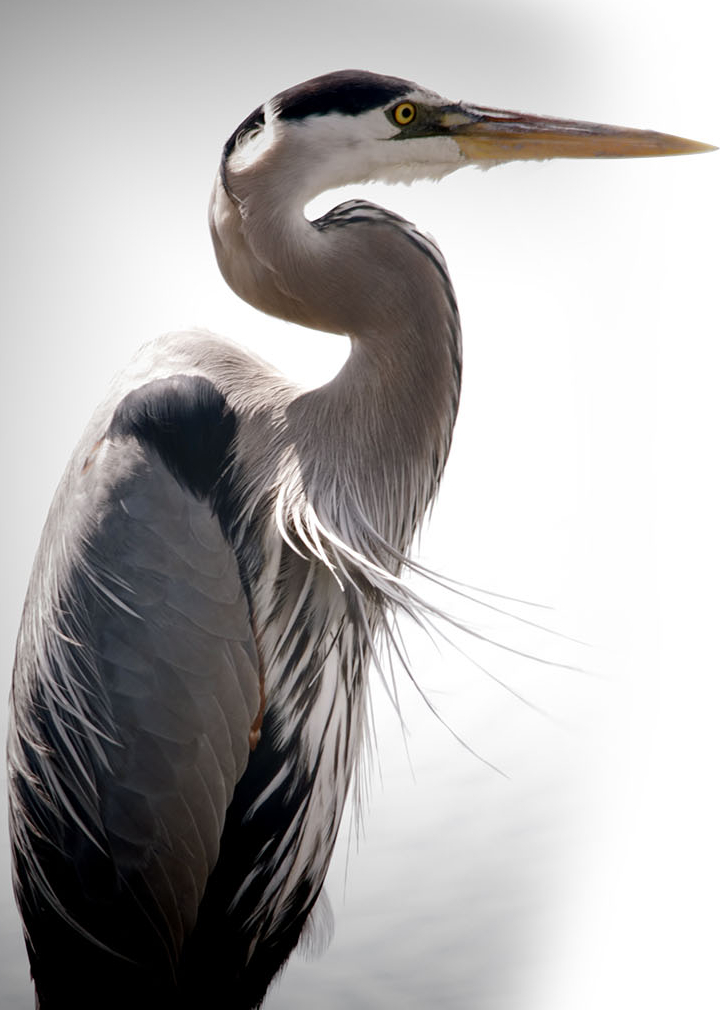heron: (20, 64, 720, 999)
